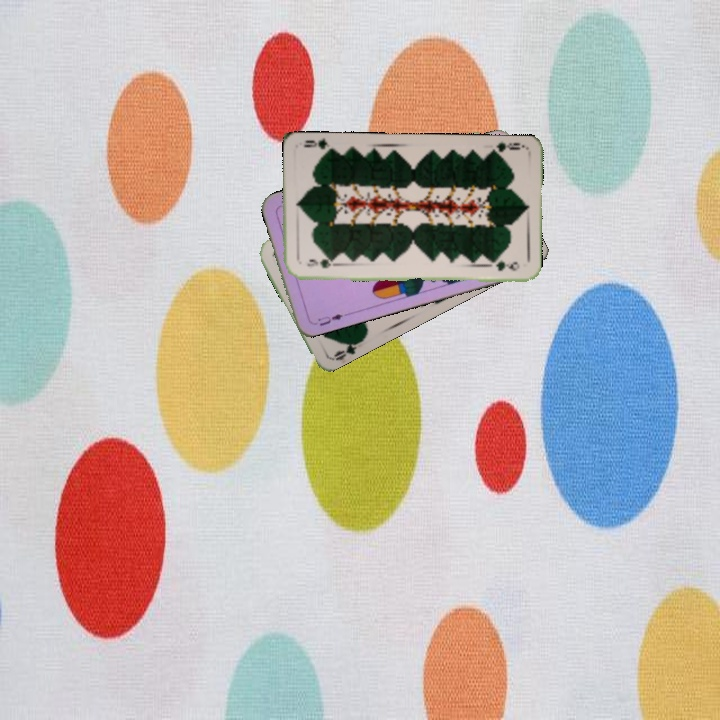EU: (314, 310, 345, 329)
G9: (486, 138, 527, 158), (303, 256, 335, 271)
GO: (329, 337, 365, 363)
